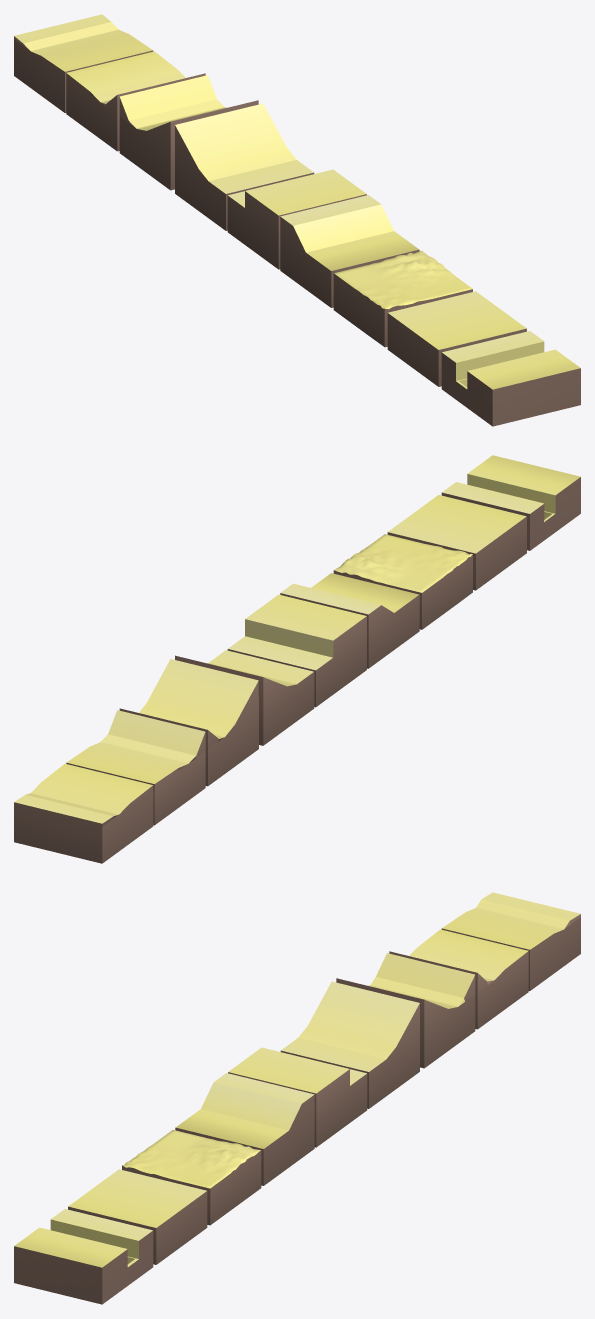
The model's file is DesertTiles.fbx.
3 views of the same model, one above another, from view 1: azimuth 30°, elevation 25°; view 2: azimuth 150°, elevation 25°; view 3: azimuth 330°, elevation 25° (orthographic).
Parts seen in each view (by area): view 1: Tile6, Tile1, Tile4, Tile3, Tile2, Tile7, Tile9, Tile5, Tile8; view 2: Tile9, Tile5, Tile7, Tile8, Tile3, Tile1, Tile2, Tile4, Tile6; view 3: Tile6, Tile1, Tile4, Tile3, Tile2, Tile7, Tile9, Tile5, Tile8.
Part boxes in pixels (x1,y1,x2,y2): Tile6: (175,103,314,230); Tile1: (441,331,580,426); Tile4: (280,195,419,307); Tile3: (333,250,472,347); Tile2: (387,291,526,386); Tile7: (119,75,258,190); Tile9: (14,14,153,112); Tile5: (227,169,366,269); Tile8: (66,51,205,151); Tile9: (14,763,153,863); Tile5: (227,594,366,707); Tile7: (119,659,258,786); Tile8: (66,710,205,825); Tile3: (333,534,472,629); Tile1: (441,455,580,550); Tile2: (387,495,526,590); Tile4: (280,573,419,668); Tile6: (175,650,314,745); Tile6: (280,981,419,1108); Tile1: (14,1209,153,1304); Tile4: (175,1073,314,1185); Tile3: (122,1130,261,1225); Tile2: (68,1169,207,1264); Tile7: (336,953,475,1068); Tile9: (441,892,580,990); Tile5: (228,1047,367,1147); Tile8: (389,929,528,1029).
Size of the model in its own units: 1012 by 748 by 9392.
